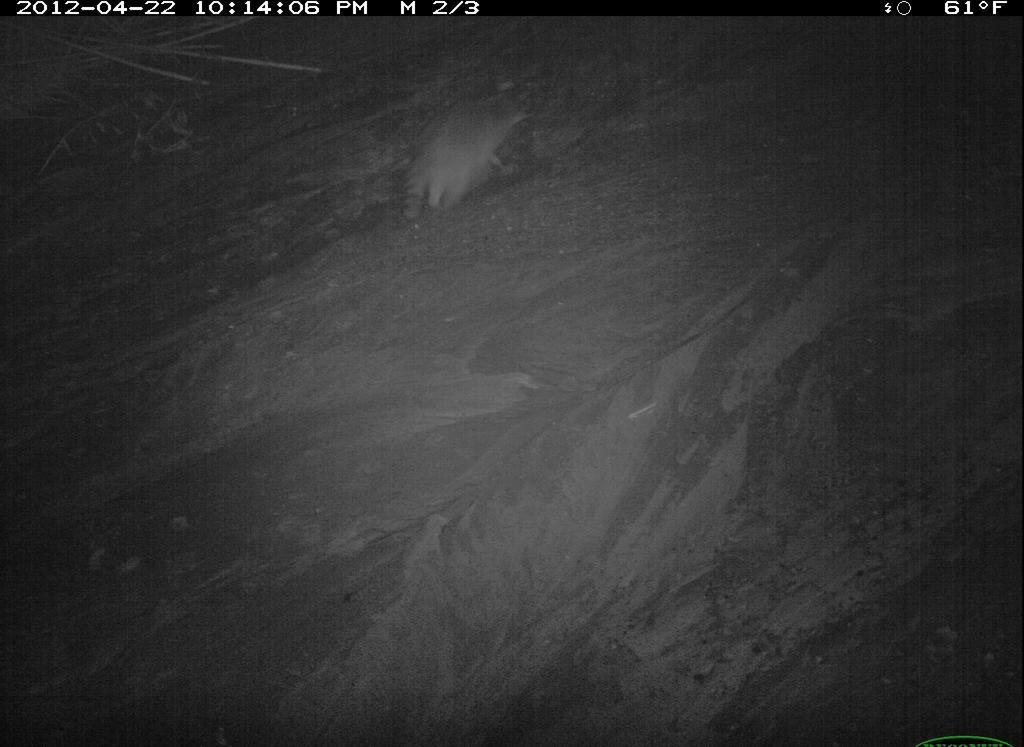raccoon: (792, 167, 1024, 467)
